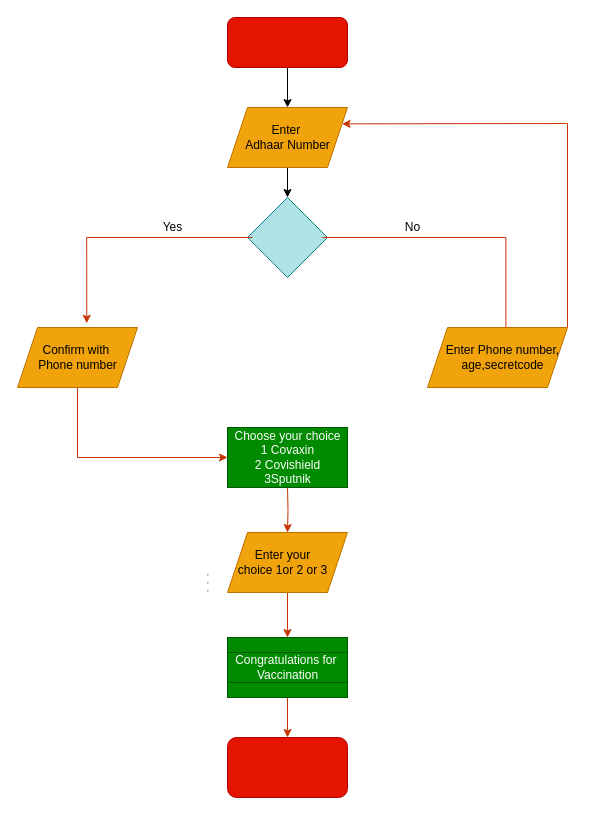
Image size: 593x815. Some labels were removed from this diagram. Here are the shapes that lost their labels. From the top down, the box of each, then its label:
(226, 16, 348, 68): Start
(246, 196, 328, 278): Check in Database
(226, 736, 348, 798): END
